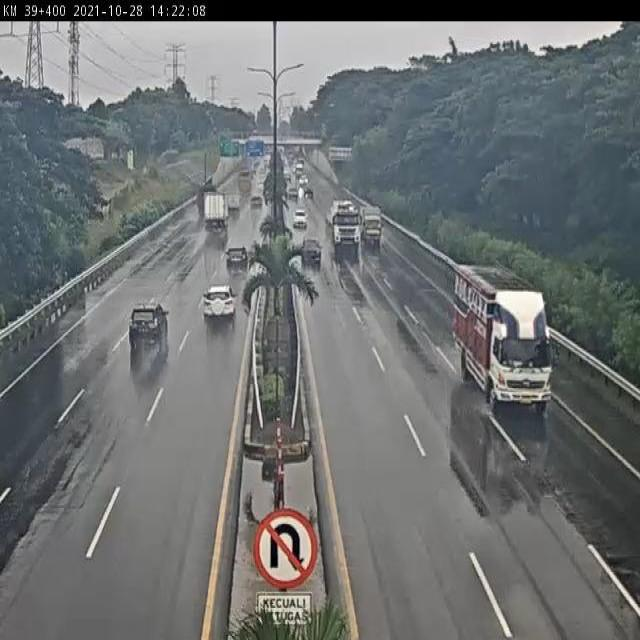car: (128, 300, 171, 349), (201, 283, 238, 321), (300, 233, 323, 266), (224, 244, 250, 272)
truck-l-: (451, 265, 552, 416), (325, 198, 359, 246)
truck-m-: (200, 192, 230, 235)
truck-s-: (360, 205, 382, 244)
